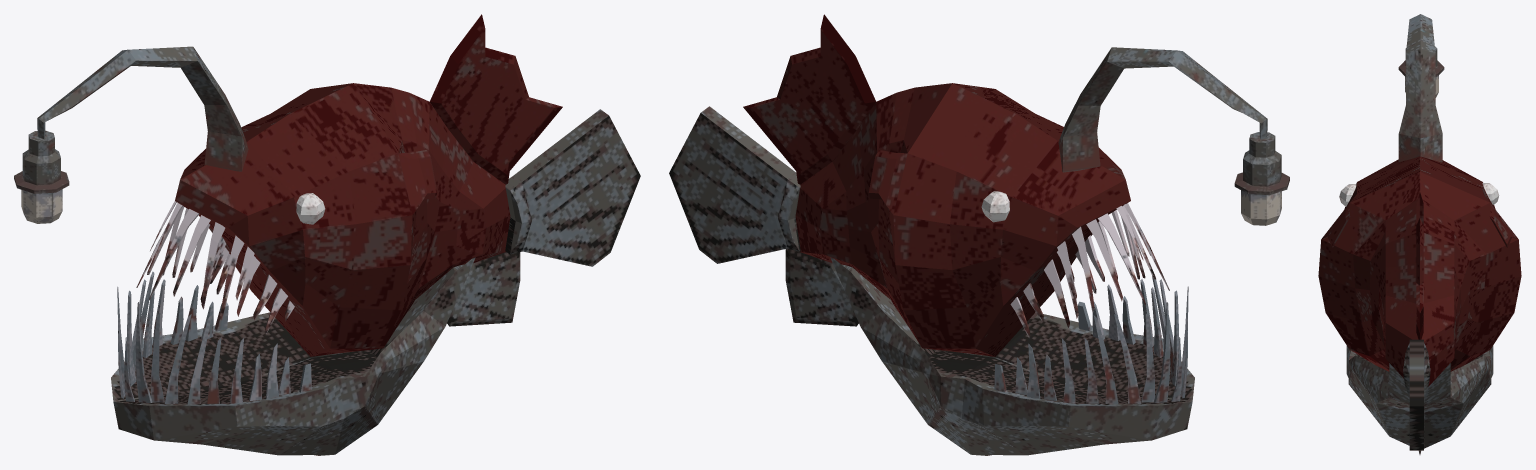
The model's file is Anglerfish.fbx.
3 renders of one model, left to right at view 1: azimuth 30°, elevation 25°; view 2: azimuth 150°, elevation 25°; view 3: azimuth 270°, elevation 25°, orthographic. The views are drawn at different scales.
Visible parts, largest first — view 1: Anglerfish.001; view 2: Anglerfish.001; view 3: Anglerfish.001.
Boxes of the visible parts, x1=… form: Anglerfish.001: x1=14, y1=14, x2=640, y2=455; Anglerfish.001: x1=669, y1=14, x2=1289, y2=455; Anglerfish.001: x1=1318, y1=14, x2=1521, y2=454.
Bounding box in the file's own units: 251 × 176 × 89.53.
Materials: 1 (1 with a texture image).
